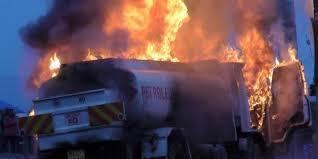fire: (204, 33, 311, 128), (78, 0, 188, 62), (45, 50, 62, 75), (26, 108, 35, 116)
